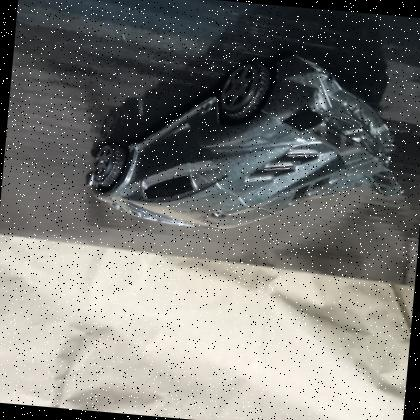Car: (76, 31, 420, 253)
